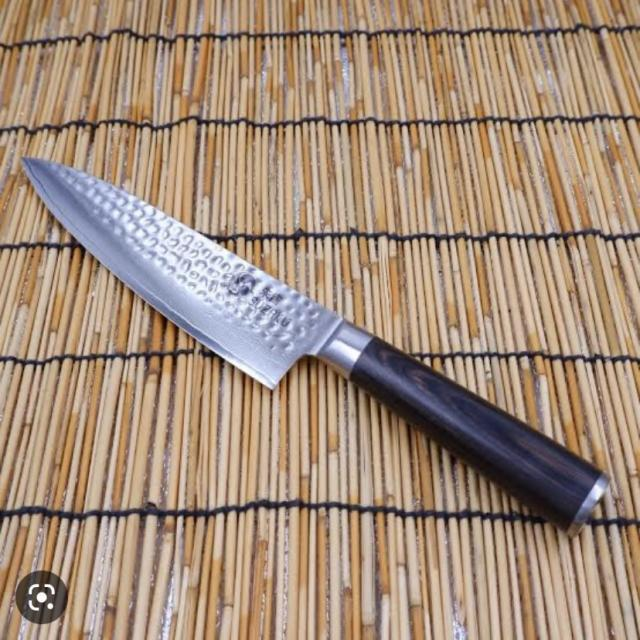Knife: (6, 142, 631, 553)
